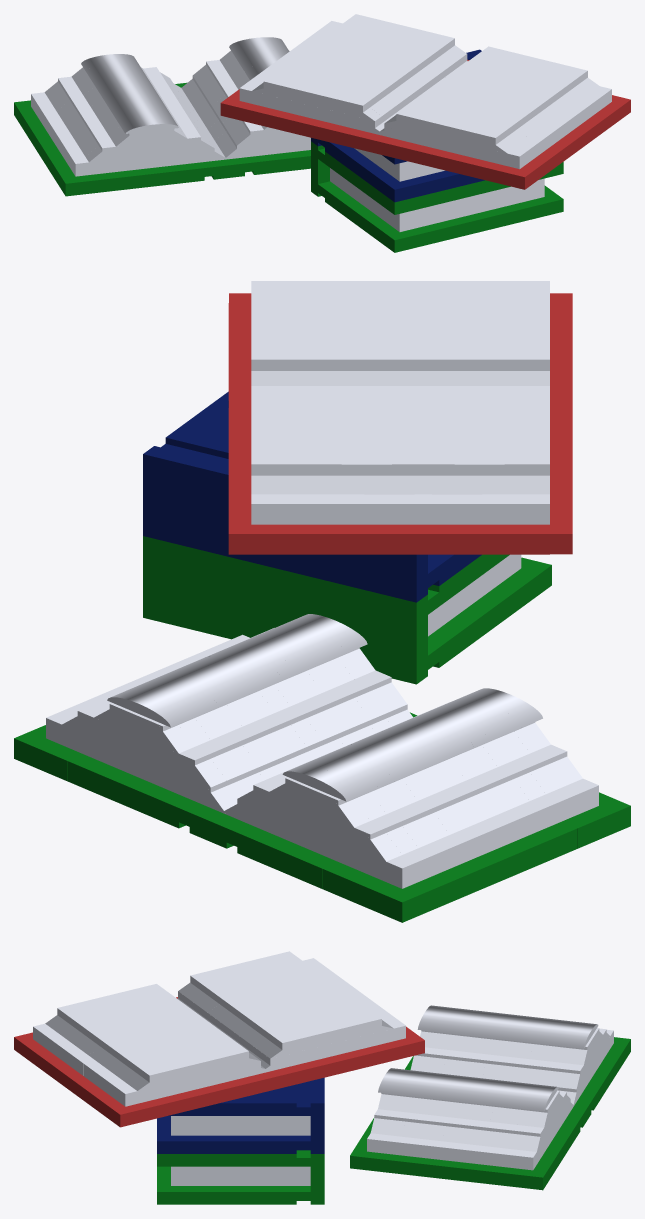
Rendered from BookPile2.obj.
3 views of the same model, one above another, from view 1: azimuth 30°, elevation 25°; view 2: azimuth 150°, elevation 25°; view 3: azimuth 270°, elevation 25° (orthographic). The views are drawn at different scales.
Parts seen in each view (by area): view 1: block, wedge, cylinder_half; view 2: block, wedge, cylinder_half; view 3: block, wedge, cylinder_half.
Part boxes in pixels (box(x1,y1,x2,y2)): block: box(14, 14, 630, 252); wedge: box(44, 45, 599, 162); cylinder_half: box(81, 37, 289, 133); block: box(14, 281, 630, 922); wedge: box(62, 371, 582, 861); cylinder_half: box(107, 614, 542, 801); block: box(14, 951, 630, 1204); wedge: box(45, 982, 609, 1151); cylinder_half: box(378, 1005, 598, 1111).
Bounding box in the file's own units: 0.9439 × 0.3079 × 1.24.
